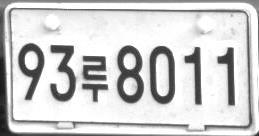0: (149, 45, 175, 104)
1: (181, 46, 210, 105), (215, 46, 242, 106)
3: (49, 44, 77, 102)
8: (116, 44, 144, 104)
9: (18, 42, 45, 100)
루: (81, 54, 108, 102)
